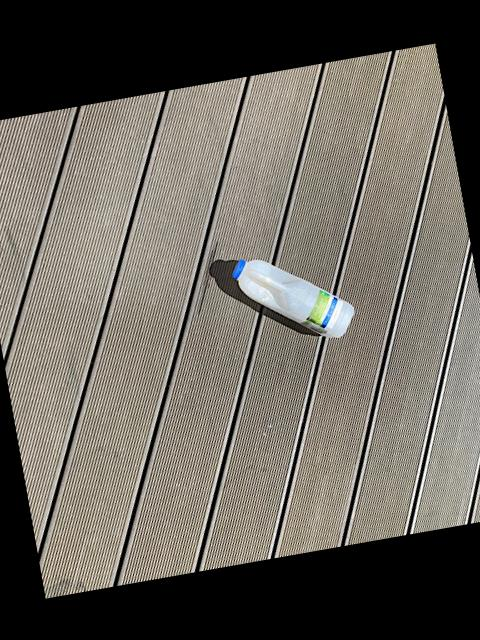plastic: (234, 259, 355, 337)
